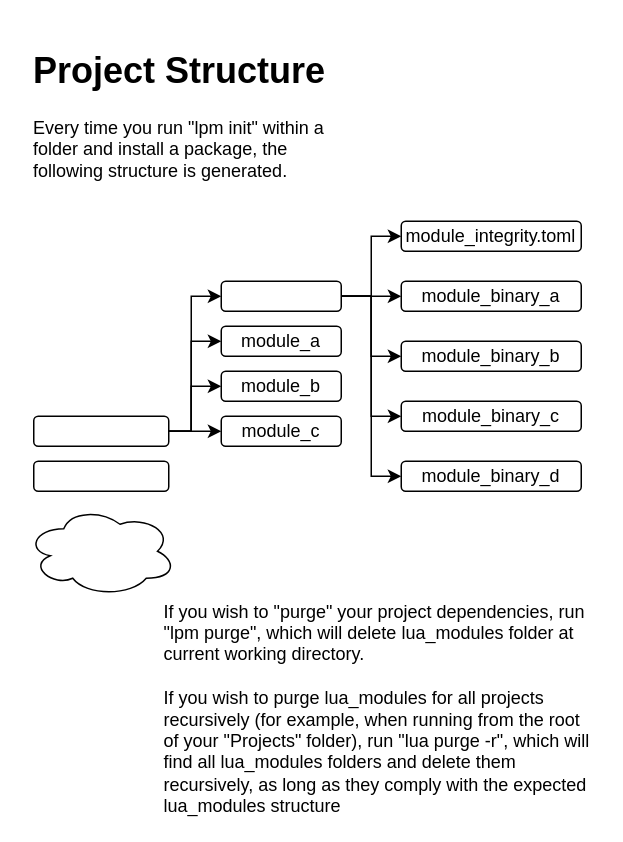
The diagram is 623 pixels wide and 842 high, and some of its shapes have lost their labels. The centre of each missing label's shape, as x and y in pixels:
.modules: point (280, 295)
lua_modules: point (100, 430)
packages.toml: point (100, 475)
sources: point (100, 550)
